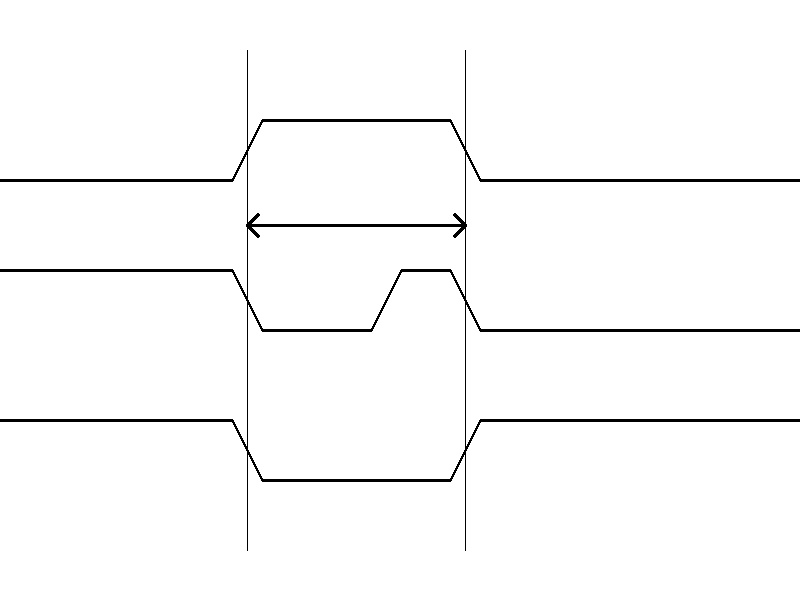double_arrow: (247, 210, 465, 240)
